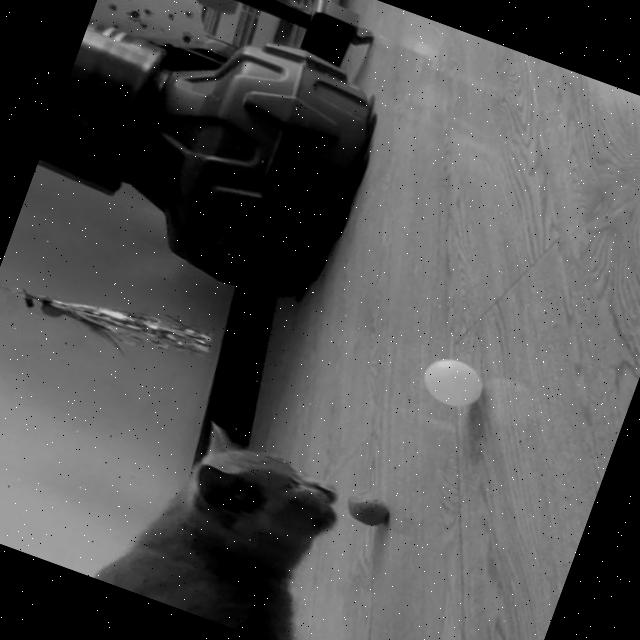ping-pong-ball: (416, 352, 488, 416)
